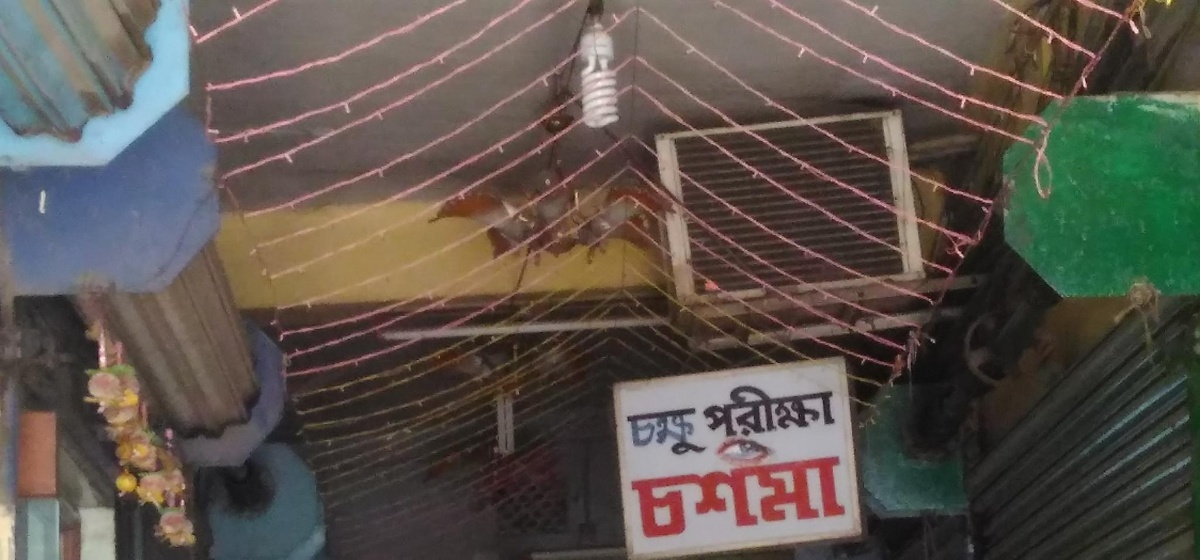text: (641, 454, 656, 542), (657, 454, 672, 542), (673, 454, 688, 542), (689, 454, 704, 542), (705, 454, 720, 542), (721, 454, 736, 542), (737, 454, 752, 542), (753, 454, 768, 542), (769, 454, 784, 542), (785, 454, 800, 542), (801, 454, 816, 542), (817, 454, 832, 542), (833, 454, 847, 542), (705, 374, 720, 443), (721, 374, 736, 443), (737, 374, 752, 443), (753, 374, 768, 443), (769, 374, 784, 443), (785, 374, 800, 443), (801, 374, 816, 443), (817, 374, 832, 443), (629, 454, 640, 542), (625, 406, 640, 460), (641, 406, 656, 460), (657, 406, 672, 460), (673, 406, 688, 460), (689, 406, 704, 460), (694, 374, 704, 443), (833, 374, 838, 443), (705, 406, 711, 460), (621, 406, 624, 460)
